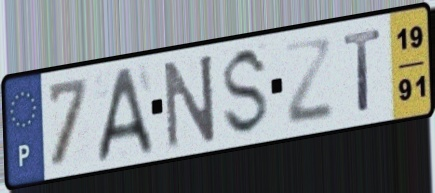7: (46, 73, 91, 171)
A: (94, 63, 157, 167)
N: (161, 50, 219, 153)
S: (220, 43, 272, 140)
T: (341, 25, 385, 115)
Z: (281, 36, 336, 129)
